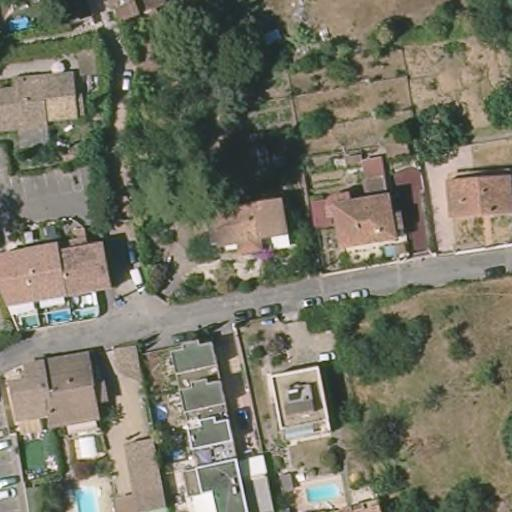pool: (301, 479, 343, 500), (71, 482, 101, 511), (3, 11, 33, 35), (17, 311, 42, 329), (45, 309, 73, 324), (153, 400, 168, 425), (78, 306, 97, 318)
